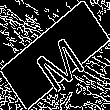M_NW: (25, 21, 85, 89)
